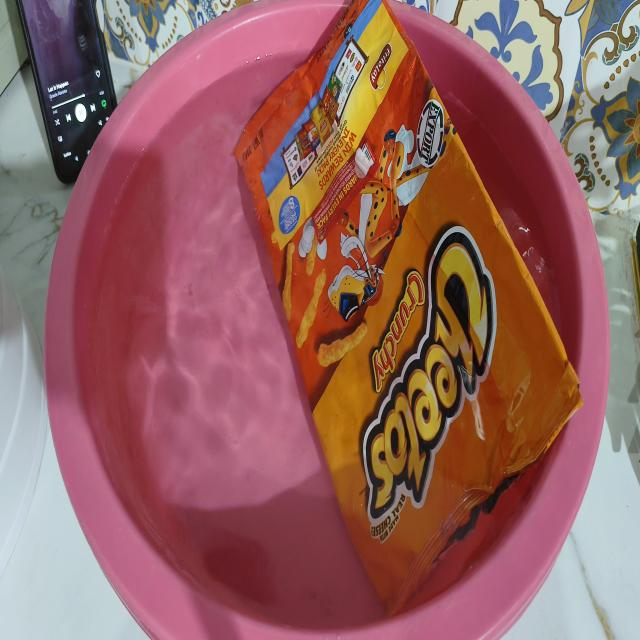Plastic Wrapper: (219, 0, 595, 631)
